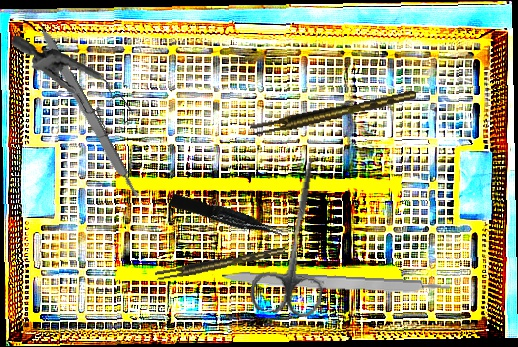Iris Scissors: (248, 151, 343, 320)
Scalpel Handle: (34, 23, 141, 202), (221, 270, 451, 298)
Speculum: (1, 35, 142, 142)
Tissue Forceps: (248, 90, 419, 137), (169, 188, 285, 246), (154, 247, 287, 281)
